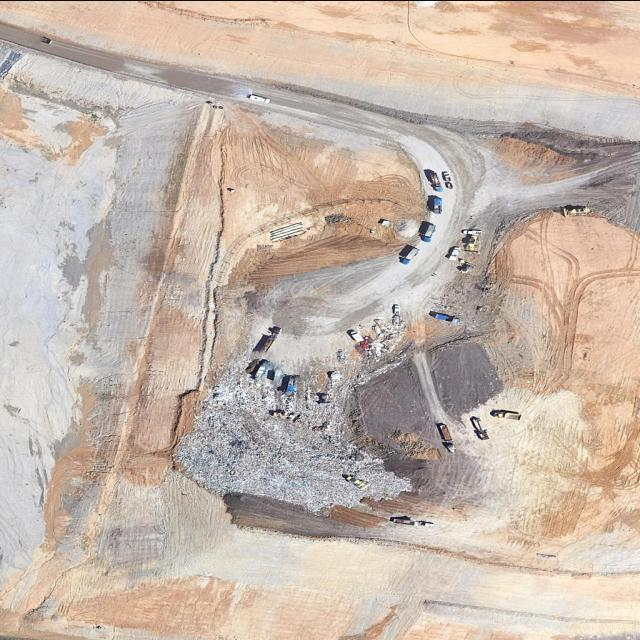dump_site: (160, 345, 460, 539), (320, 301, 430, 390)
